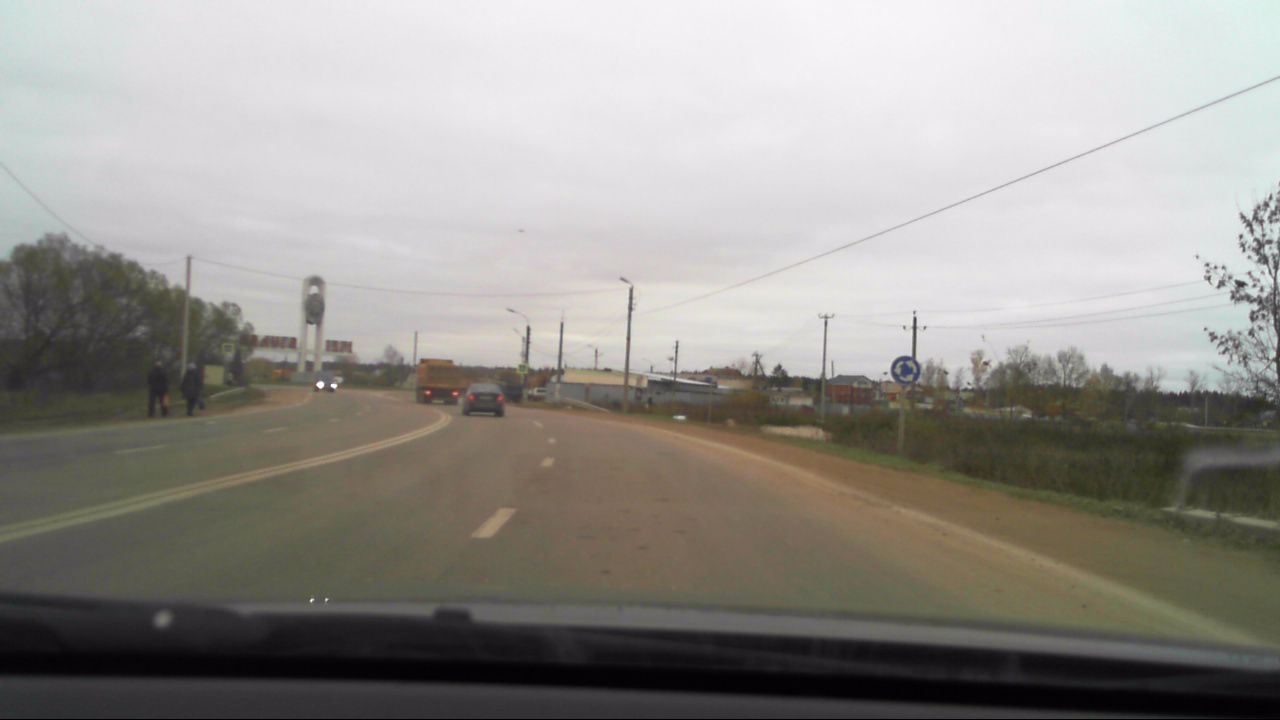Round-About: (889, 354, 925, 388)
